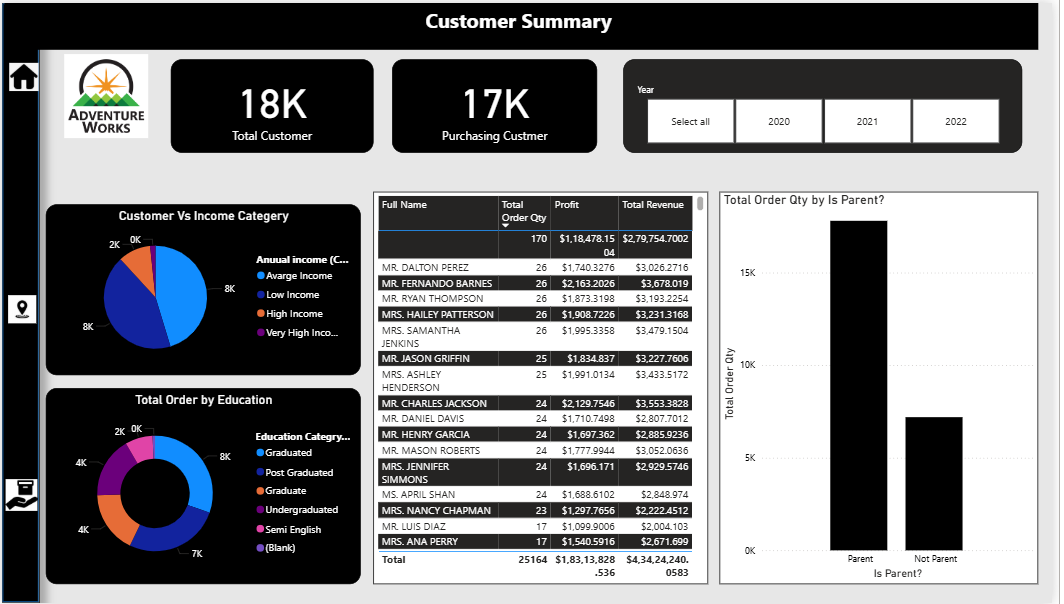

The page's visual inventory and layout, read from the dashboard file:
{"tool":"powerbi","page":{"name":"Customer Information","canvas":[1400,800],"ordinal":2},"visuals":[{"type":"actionButton","box":[0,0,100,40],"z":0},{"type":"shape","box":[0,0,50,800],"z":1000},{"type":"image","box":[52.6,62.5,171.1,121.7],"z":2000},{"type":"image","box":[0,74.7,58.4,47.6],"z":3000},{"type":"image","box":[2.7,379.1,47.6,59.8],"z":4000},{"type":"image","box":[0,630.4,52,52],"z":5000},{"type":"pieChart","title":" Customer Vs Income Categery","fields":{"Y":["Measure Table.Total Customer"],"Category":["Customer Lookup.Anuual income (Cal)"]},"box":[58.3,268.3,420,228.3],"z":6000},{"type":"donutChart","title":"Total Order by Education","fields":{"Category":["Customer Lookup.Education Categry (IF)"],"Y":["Measure Table.Total Order"]},"box":[58.3,513.3,420,261.7],"z":7000},{"type":"card","title":"Purchasing Cusomers","fields":{"Values":["Measure Table.Purchasing Custmer"]},"box":[520,75,273.3,125],"z":8000},{"type":"card","title":"Purchasing Cusomers","fields":{"Values":["Measure Table.Total Customer"]},"box":[225,75,270,125],"z":9000},{"type":"textbox","box":[3.3,0,1378.3,62.5],"z":10000},{"type":"slicer","title":"Year","fields":{"Values":["Calendar Lookup.Year"]},"box":[828.3,75,531.7,125],"z":11000},{"type":"tableEx","fields":{"Values":["Customer Lookup.Full Name","Measure Table.Total Order","Measure Table.Profit","Measure Table.Total Revenue"]},"box":[495,251.7,446.7,523.3],"z":12000},{"type":"lineStackedColumnComboChart","fields":{"Category":["Customer Lookup.Is Parent?"],"Y":["Measure Table.Total Order"]},"box":[956.7,251.7,425,523.3],"z":13000}]}

Visuals, with their boxes on the page's 1400x800 design canvas (x1, y1, x2, y2). These are canvas units, not pixel positions in the 1064x604 screenshot, which may show the page scaled, cropped or inside an application window:
actionButton: (x1=0, y1=0, x2=100, y2=40)
shape: (x1=0, y1=0, x2=50, y2=800)
image: (x1=53, y1=62, x2=224, y2=184)
image: (x1=0, y1=75, x2=58, y2=122)
image: (x1=3, y1=379, x2=50, y2=439)
image: (x1=0, y1=630, x2=52, y2=682)
" Customer Vs Income Categery" pieChart: (x1=58, y1=268, x2=478, y2=497)
"Total Order by Education" donutChart: (x1=58, y1=513, x2=478, y2=775)
"Purchasing Cusomers" card: (x1=520, y1=75, x2=793, y2=200)
"Purchasing Cusomers" card: (x1=225, y1=75, x2=495, y2=200)
textbox: (x1=3, y1=0, x2=1382, y2=62)
"Year" slicer: (x1=828, y1=75, x2=1360, y2=200)
tableEx - Customer Lookup.Full Name x Measure Table.Total Order: (x1=495, y1=252, x2=942, y2=775)
lineStackedColumnComboChart - Customer Lookup.Is Parent? x Measure Table.Total Order: (x1=957, y1=252, x2=1382, y2=775)
